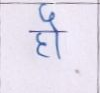ai_matra: (38, 4, 62, 30)
